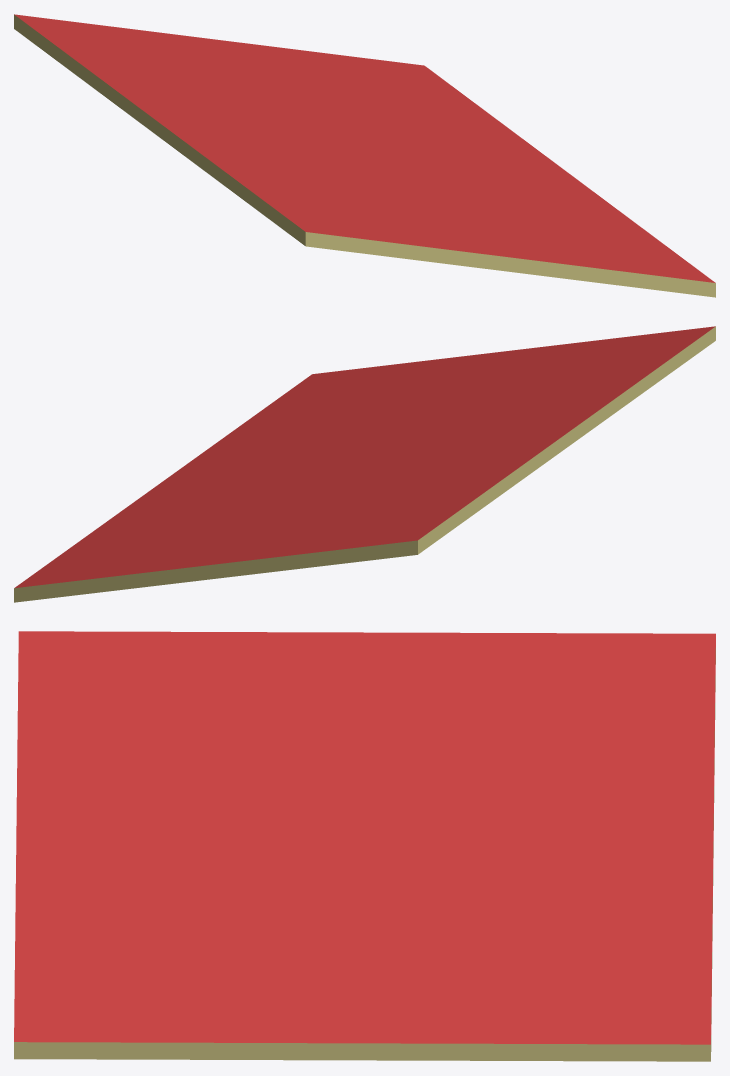
The picture shows the model from 3 angles, top to bottom: view 1: azimuth 30°, elevation 25°; view 2: azimuth 150°, elevation 25°; view 3: azimuth 270°, elevation 25°; orthographic projection. The views are drawn at different scales.
Bounding box in the file's own units: 2.98 × 3.72 × 1.13.
